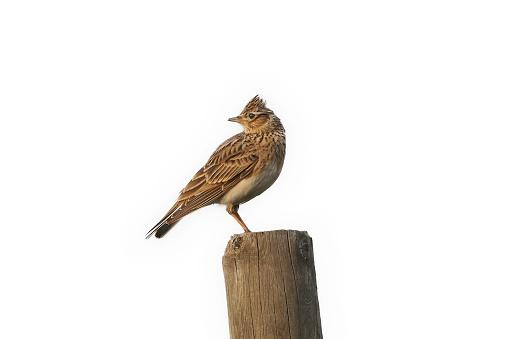bird: (146, 95, 285, 237)
